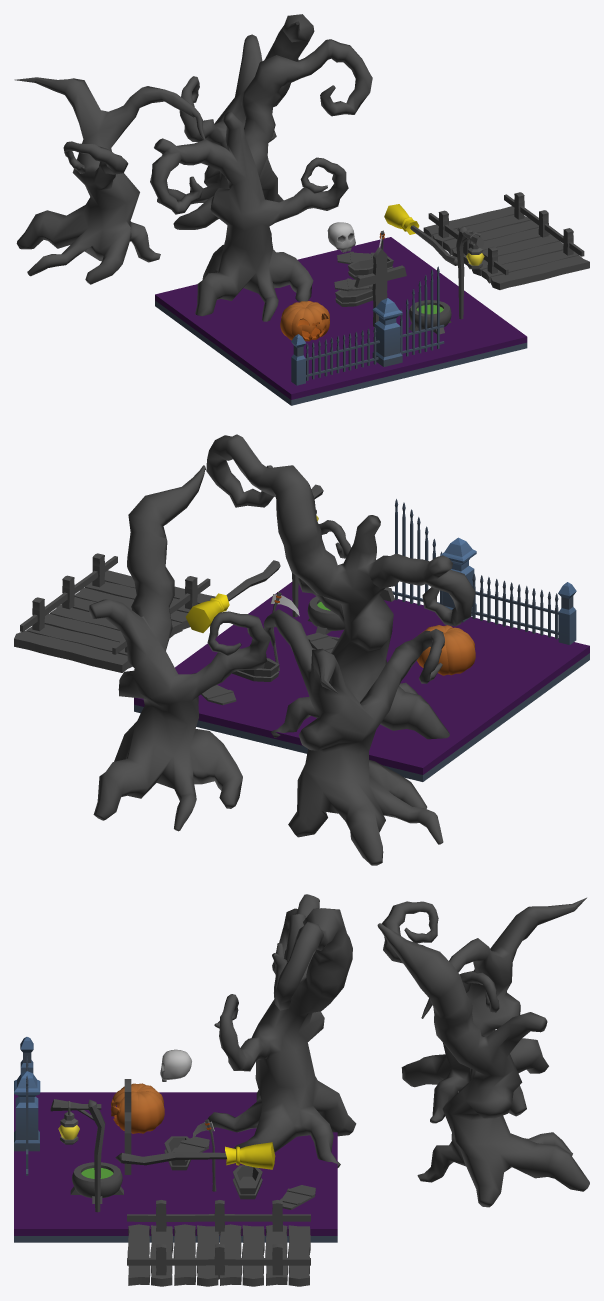
File: Halloween.fbx
3 views of the same model, one above another, from view 1: azimuth 30°, elevation 25°; view 2: azimuth 150°, elevation 25°; view 3: azimuth 270°, elevation 25° (orthographic). The views are drawn at different scales.
Parts seen in each view (by area): view 1: Ground, Tree, Tree2, Bridge, Tree1, Gate, Fence, Pumpkin, Pillar_1, Headstone, Lamp, Brroom (+4 smaller); view 2: Ground, Tree1, Tree, Tree2, Bridge, Fence, Pumpkin, Brroom, Gate, Pillar_1, Pillar_2, Pot_of_magic_water (+1 smaller); view 3: Ground, Tree, Tree1, Bridge, Tree2, Brroom, Pumpkin, Lamp, Pillar_1, Pot_of_magic_water, Coffin, Coffin_2 (+3 smaller).
Part boxes in pixels (left/top/right/bottom): Ground: left=155, top=237, right=527, bottom=405; Tree: left=150, top=39, right=372, bottom=321; Tree2: left=14, top=77, right=205, bottom=284; Bridge: left=423, top=192, right=589, bottom=289; Tree1: left=157, top=14, right=314, bottom=229; Gate: left=400, top=266, right=444, bottom=356; Fence: left=306, top=327, right=379, bottom=380; Pumpkin: left=280, top=301, right=329, bottom=341; Pillar_1: left=372, top=298, right=402, bottom=366; Headstone: left=354, top=247, right=406, bottom=326; Lamp: left=456, top=227, right=484, bottom=319; Brroom: left=384, top=204, right=457, bottom=265; Ground: left=134, top=582, right=589, bottom=781; Tree1: left=89, top=465, right=270, bottom=831; Tree: left=206, top=434, right=475, bottom=739; Tree2: left=263, top=609, right=444, bottom=865; Bridge: left=14, top=553, right=215, bottom=672; Fence: left=471, top=573, right=558, bottom=639; Pumpkin: left=417, top=625, right=475, bottom=675; Brroom: left=186, top=560, right=280, bottom=632; Gate: left=392, top=499, right=442, bottom=605; Pillar_1: left=440, top=537, right=476, bottom=622; Pillar_2: left=558, top=582, right=576, bottom=644; Pot_of_magic_water: left=307, top=596, right=344, bottom=634; Ground: left=14, top=1092, right=337, bottom=1242; Tree: left=208, top=894, right=356, bottom=1167; Tree1: left=377, top=923, right=589, bottom=1207; Bridge: left=127, top=1200, right=310, bottom=1286; Tree2: left=382, top=897, right=586, bottom=1123; Brroom: left=115, top=1142, right=275, bottom=1169; Pumpkin: left=111, top=1083, right=164, bottom=1133; Lamp: left=50, top=1099, right=105, bottom=1212; Pillar_1: left=14, top=1071, right=40, bottom=1151; Pot_of_magic_water: left=70, top=1162, right=123, bottom=1203; Coffin: left=164, top=1136, right=209, bottom=1170; Coffin_2: left=232, top=1165, right=262, bottom=1199.
Size of the model in its own units: 1006 by 536 by 1005.
